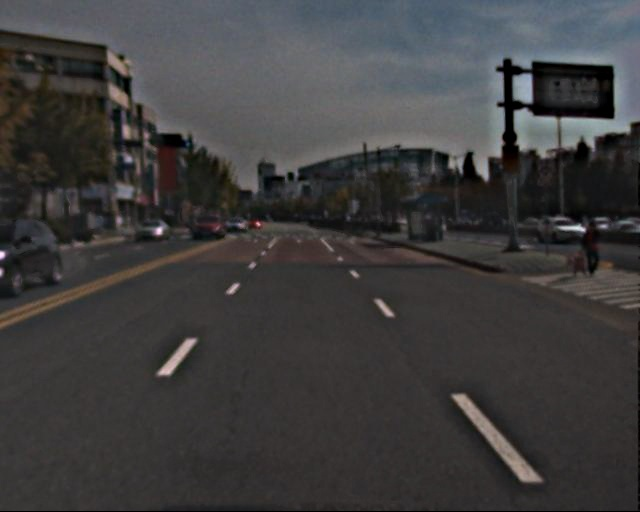person: (576, 220, 602, 279)
